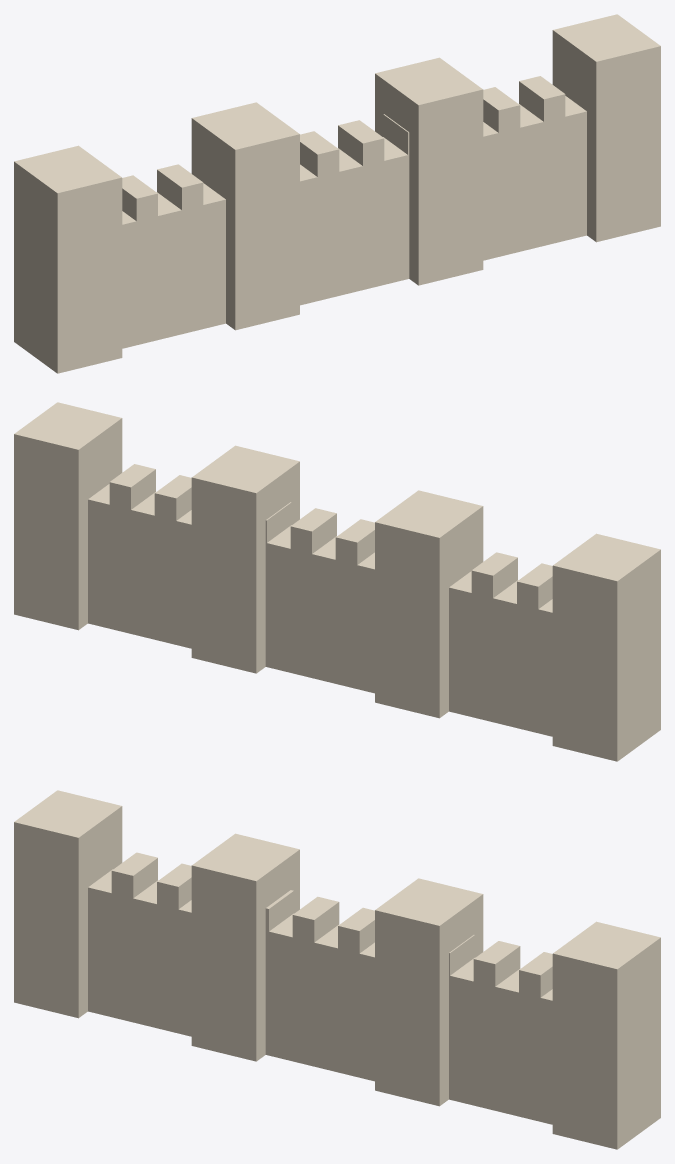
The model's file is muralla.glb.
3 views of the same model, one above another, from view 1: azimuth 30°, elevation 25°; view 2: azimuth 150°, elevation 25°; view 3: azimuth 330°, elevation 25° (orthographic).
Parts seen in each view (by area): view 1: muralla; view 2: muralla; view 3: muralla.
Boxes of the visible parts, x1,y1,x2,y2 form: muralla: (14, 14, 660, 373); muralla: (14, 402, 660, 761); muralla: (14, 790, 660, 1149).
Size of the model in its own units: 1.12 by 0.32 by 0.14.
